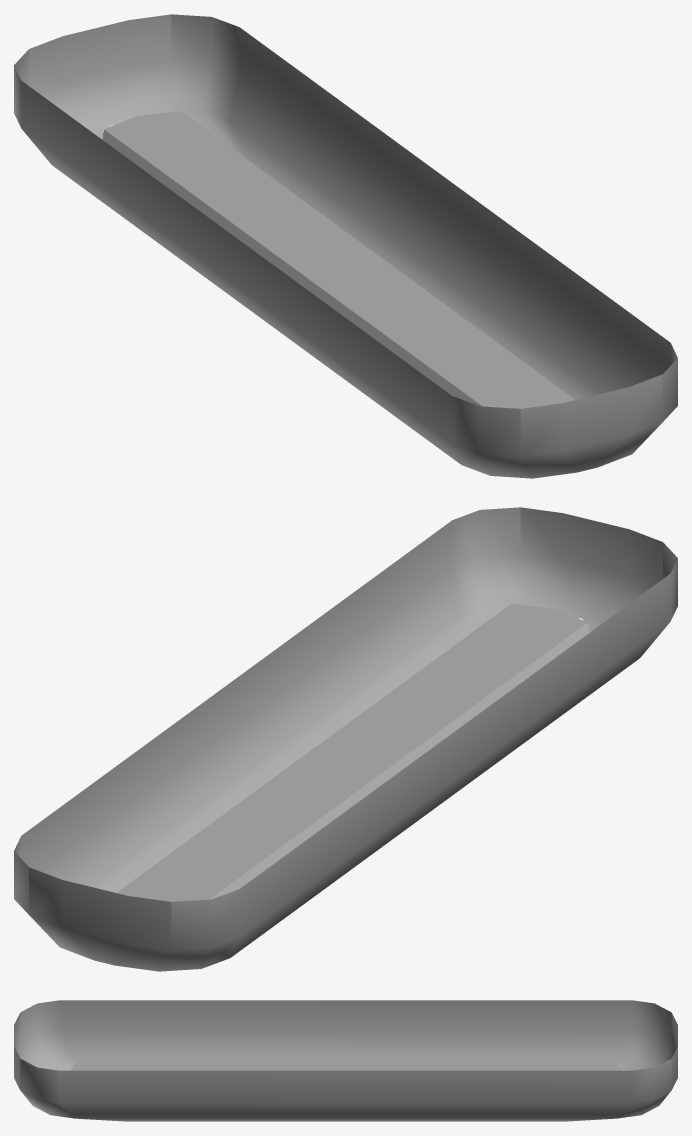
The model's file is tl_light_01.fbx.
3 renders of one model, top to bottom at view 1: azimuth 30°, elevation 25°; view 2: azimuth 150°, elevation 25°; view 3: azimuth 270°, elevation 25°, orthographic. The views are drawn at different scales.
Parts seen in each view (by area): view 1: TL_light; view 2: TL_light; view 3: TL_light.
Part boxes in pixels (x1,y1,x2,y2): TL_light: (14, 14, 677, 478); TL_light: (14, 507, 677, 971); TL_light: (14, 1000, 677, 1121).
Size of the model in its own units: 0.00611 by 0.00257 by 0.0243.
2 materials, 1 textured.
